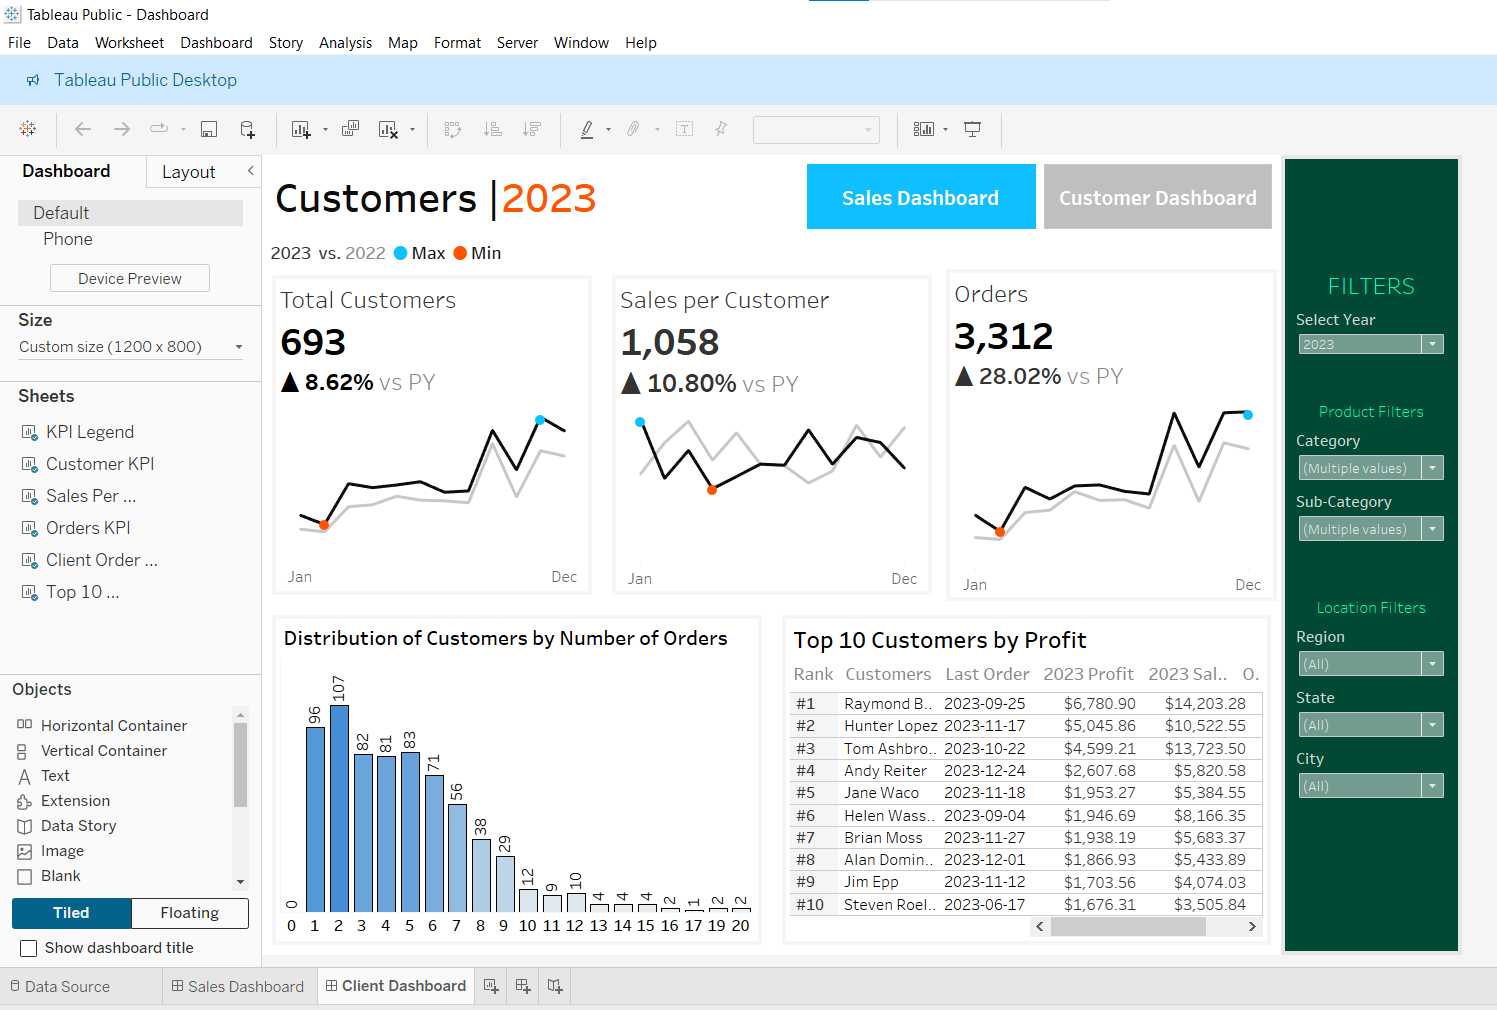

What the dashboard file says about the page in this screenshot:
{"tool":"tableau","page":{"name":"Client Dashboard","canvas":[1200,800],"ordinal":0},"visuals":[{"type":"text","box":[5,5,536,73]},{"type":"dashboard-object","box":[541,5,237,73]},{"type":"dashboard-object","box":[778,5,236,73]},{"type":"blank","box":[1030,11,159,99]},{"type":"worksheet","title":"KPI Legend","mark":"Automatic","box":[0,83,1019,27]},{"type":"worksheet","title":"Customer KPI","mark":"Automatic","rows":["Calculation_796574232056344613"],"cols":["Order Date"],"box":[0,110,340,340]},{"type":"worksheet","title":"Sales Per Customer KPI","mark":"Automatic","rows":["Calculation_796574232062963756"],"cols":["Order Date"],"box":[340,110,340,340]},{"type":"worksheet","title":"Orders KPI","mark":"Circle","rows":["Calculation_796574232073723958"],"cols":["Order Date"],"box":[680,110,339,340]},{"type":"text","box":[1030,110,159,40]},{"type":"parameter","param":"[Parameters].[Parameter 1]","box":[1030,150,159,56]},{"type":"blank","box":[1030,206,159,36]},{"type":"text","box":[1030,242,159,29]},{"type":"filter","title":"Customer KPI","param":"[federated.0tmau3h1o9sc4a1ee21wl1ntytuh].[none:Category:nk]","box":[1030,271,159,61]},{"type":"filter","title":"Customer KPI","param":"[federated.0tmau3h1o9sc4a1ee21wl1ntytuh].[none:Sub-Category:nk]","box":[1030,332,159,61]},{"type":"blank","box":[1030,393,159,45]},{"type":"text","box":[1030,438,159,29]},{"type":"text","box":[14,464,482,36]},{"type":"text","box":[524,464,481,40]},{"type":"filter","title":"Customer KPI","param":"[federated.0tmau3h1o9sc4a1ee21wl1ntytuh].[none:Region:nk]","box":[1030,467,159,61]},{"type":"worksheet","title":"Client Order Distribution","mark":"Automatic","rows":["Calculation_796574232055431202"],"cols":["Calculation_796574232353796151"],"box":[14,500,482,286]},{"type":"text","box":[524,504,52,29]},{"type":"text","box":[576,504,100,29]},{"type":"text","box":[676,504,98,29]},{"type":"text","box":[774,504,105,29]},{"type":"text","box":[879,504,94,29]},{"type":"text","box":[973,504,32,29]},{"type":"filter","title":"Customer KPI","param":"[federated.0tmau3h1o9sc4a1ee21wl1ntytuh].[none:State:nk]","box":[1030,528,159,61]},{"type":"worksheet","title":"Top 10 Customers by Profit","mark":"Automatic","rows":["Calculation_796574232356728890","Customer Name","Order Date"],"box":[524,533,481,253]},{"type":"filter","title":"Customer KPI","param":"[federated.0tmau3h1o9sc4a1ee21wl1ntytuh].[none:City:nk]","box":[1030,589,159,61]}]}

Visuals, with their boxes on the page's 1200x800 design canvas (x1, y1, x2, y2). These are canvas units, not pixel positions in the 1497x1010 screenshot, which may show the page scaled, cropped or inside an application window:
text: 5:5:541:78
dashboard-object: 541:5:778:78
dashboard-object: 778:5:1014:78
blank: 1030:11:1189:110
"KPI Legend" worksheet: 0:83:1019:110
"Customer KPI" worksheet: 0:110:340:450
"Sales Per Customer KPI" worksheet: 340:110:680:450
"Orders KPI" worksheet (Circle marks): 680:110:1019:450
text: 1030:110:1189:150
parameter: 1030:150:1189:206
blank: 1030:206:1189:242
text: 1030:242:1189:271
"Customer KPI" filter: 1030:271:1189:332
"Customer KPI" filter: 1030:332:1189:393
blank: 1030:393:1189:438
text: 1030:438:1189:467
text: 14:464:496:500
text: 524:464:1005:504
"Customer KPI" filter: 1030:467:1189:528
"Client Order Distribution" worksheet: 14:500:496:786
text: 524:504:576:533
text: 576:504:676:533
text: 676:504:774:533
text: 774:504:879:533
text: 879:504:973:533
text: 973:504:1005:533
"Customer KPI" filter: 1030:528:1189:589
"Top 10 Customers by Profit" worksheet: 524:533:1005:786
"Customer KPI" filter: 1030:589:1189:650
